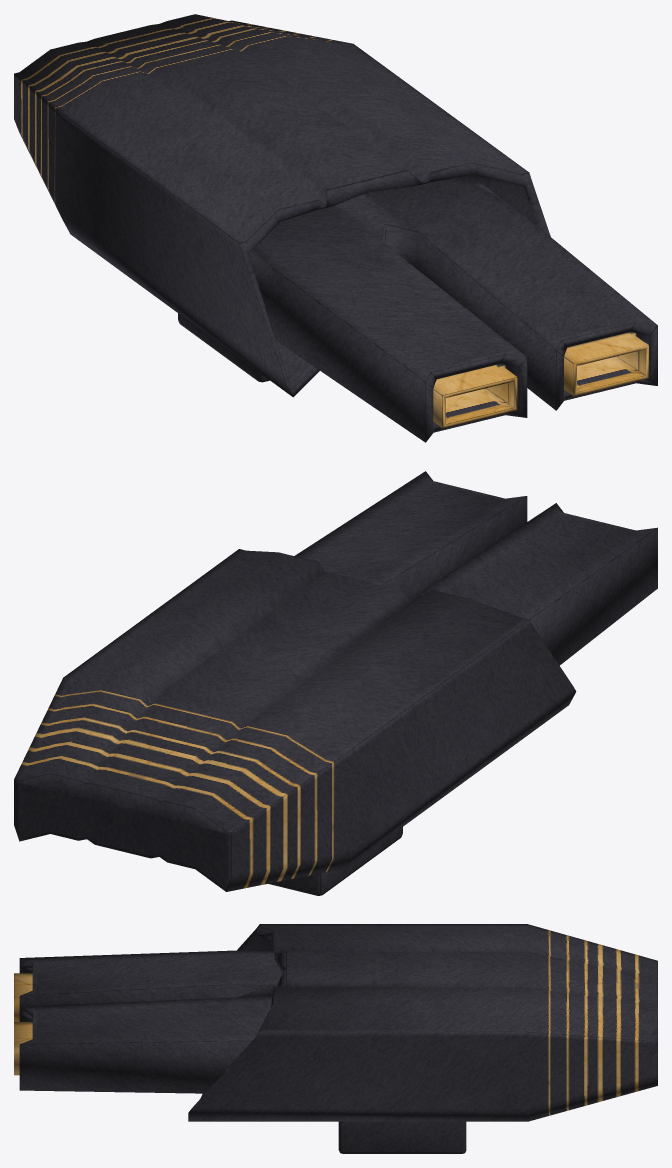
File: Aurous_LOD_single.fbx
3 views of the same model, one above another, from view 1: azimuth 30°, elevation 25°; view 2: azimuth 150°, elevation 25°; view 3: azimuth 270°, elevation 25° (orthographic). The views are drawn at different scales.
Parts seen in each view (by area): view 1: Aurous_LOD0; view 2: Aurous_LOD0; view 3: Aurous_LOD0.
Boxes of the visible parts, x1,y1,x2,y2 form: Aurous_LOD0: [14, 14, 657, 442]; Aurous_LOD0: [14, 471, 657, 895]; Aurous_LOD0: [14, 924, 657, 1153].
Size of what is drawn, in the model's own units: 2 by 1.4 by 5.05.
Materials: 1 (1 with a texture image).
